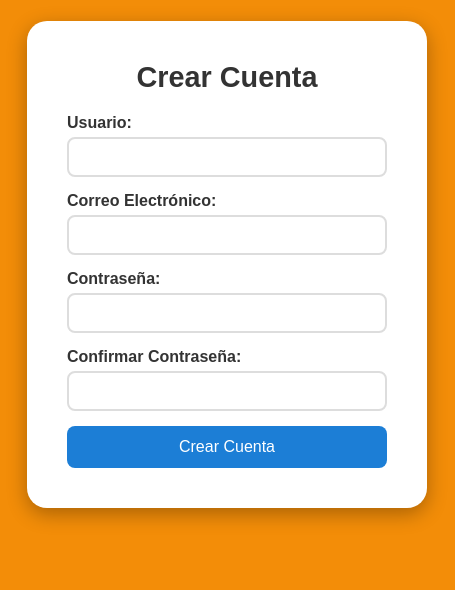
it: Register page › muestra error si las contraseñas no coinciden
In the field labelled "Usuario:": (227, 157) [67,137,387,177], type "user"
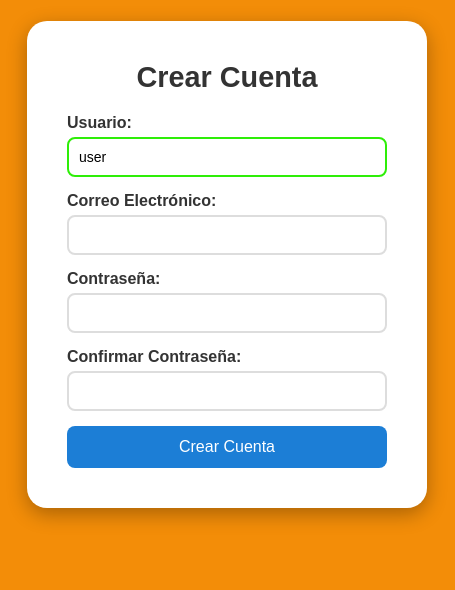
In the field labelled "Correo Electrónico:": (227, 235) [67,215,387,255], type "a@a.com"
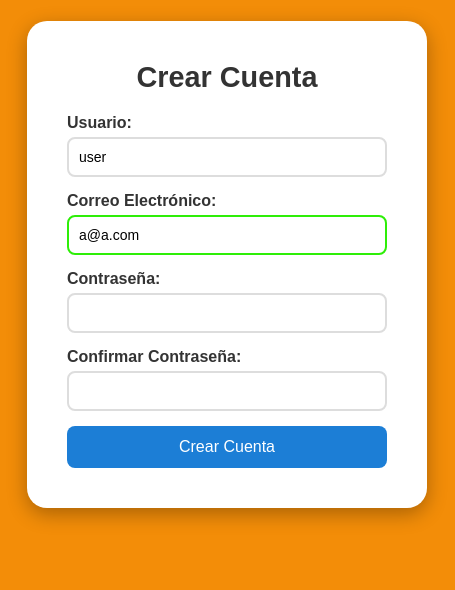
In the password field labelled "Contraseña:": (227, 313) [67,293,387,333], type "12345678"
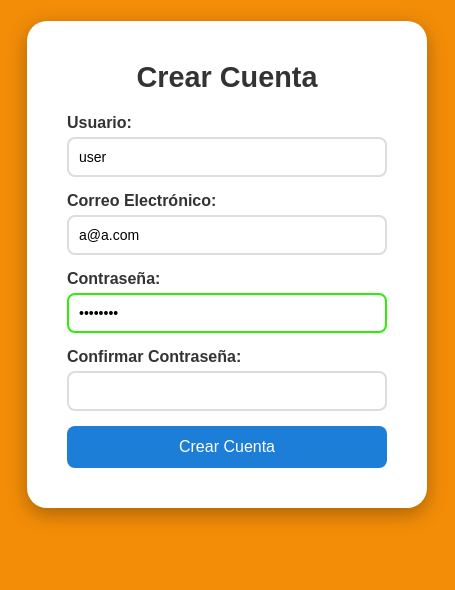
In the password field labelled "Confirmar Contraseña:": (227, 391) [67,371,387,411], type "1234"
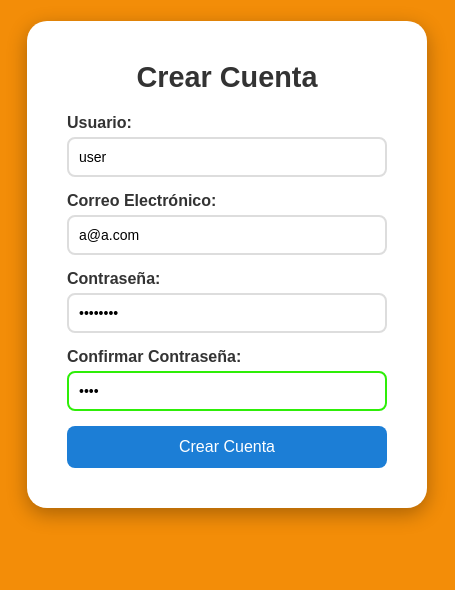
Click the button "Crear Cuenta": click(227, 447) [67,426,387,468]
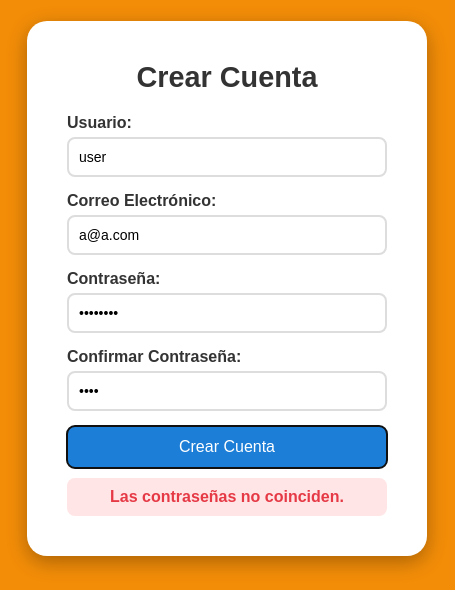
Check: the text "Las contraseñas no coinciden." is shown, box [67,478,387,516]
